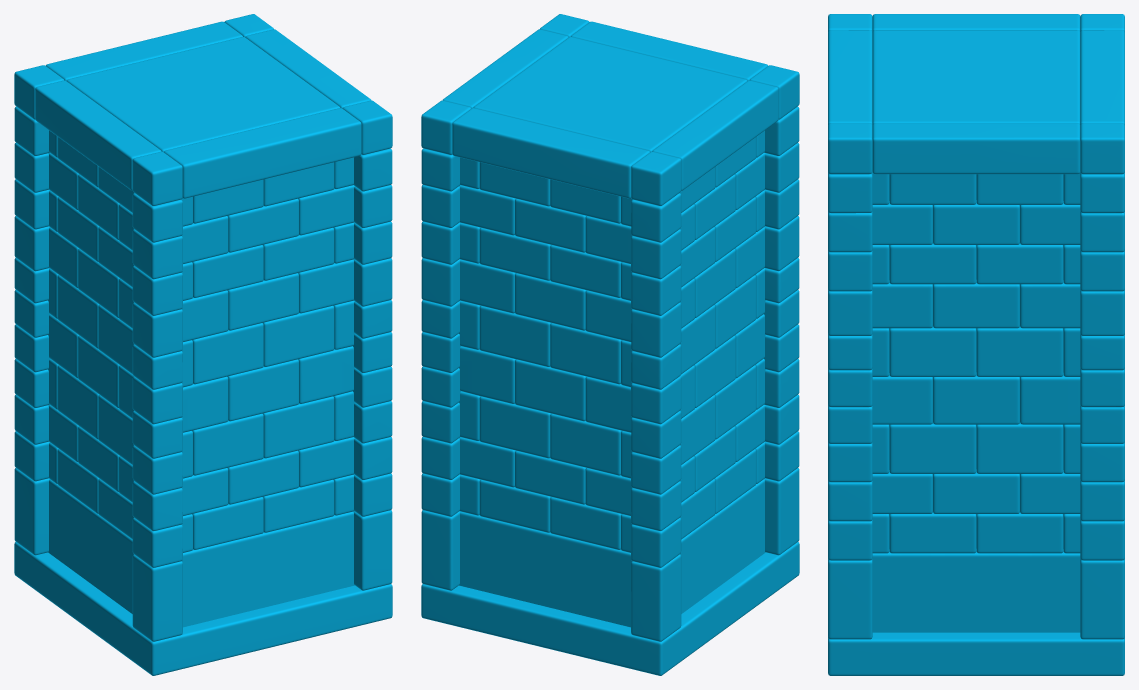
The model's file is SM_Brick_Body_07.fbx.
The picture shows the model from 3 angles, left to right: view 1: azimuth 30°, elevation 25°; view 2: azimuth 150°, elevation 25°; view 3: azimuth 270°, elevation 25°; orthographic projection. The views are drawn at different scales.
Parts seen in each view (by area): view 1: SM_Brick_Body_07; view 2: SM_Brick_Body_07; view 3: SM_Brick_Body_07.
Part boxes in pixels (x1,y1,x2,y2): SM_Brick_Body_07: (14, 14, 392, 675); SM_Brick_Body_07: (421, 14, 799, 675); SM_Brick_Body_07: (828, 14, 1124, 675).
Bounding box in the file's own units: 2.5 × 5 × 2.5.
